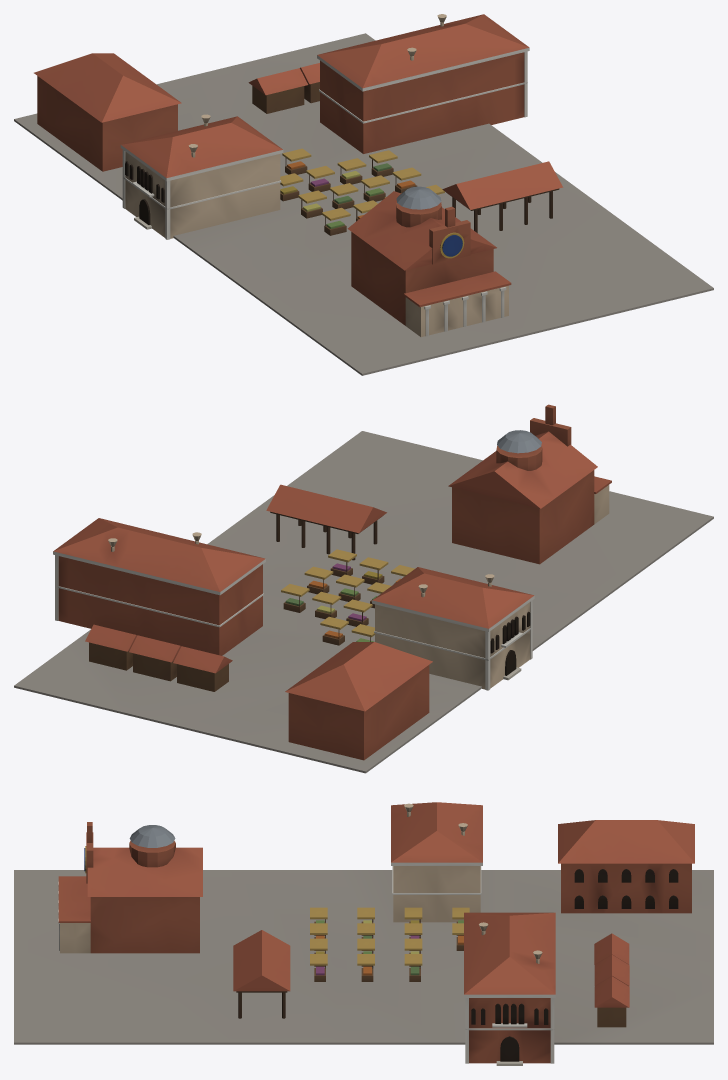
The model's file is rialto-market-old.glb.
3 renders of one model, top to bottom at view 1: azimuth 30°, elevation 25°; view 2: azimuth 150°, elevation 25°; view 3: azimuth 270°, elevation 25°, orthographic.
Parts seen in each view (by area): view 1: p1_buildings, p0_ground, p2_stalls; view 2: p1_buildings, p0_ground, p2_stalls; view 3: p0_ground, p1_buildings, p2_stalls.
Boxes of the visible parts, bbox=[...] form: p1_buildings: bbox=[34, 14, 563, 337]; p0_ground: bbox=[14, 33, 713, 375]; p2_stalls: bbox=[248, 63, 444, 235]; p1_buildings: bbox=[53, 404, 611, 760]; p0_ground: bbox=[14, 431, 713, 773]; p2_stalls: bbox=[85, 549, 414, 691]; p0_ground: bbox=[14, 870, 713, 1044]; p1_buildings: bbox=[58, 802, 694, 1065]; p2_stalls: bbox=[310, 907, 629, 1027].
Size of the model in its own units: 64.6 by 16.64 by 96.
